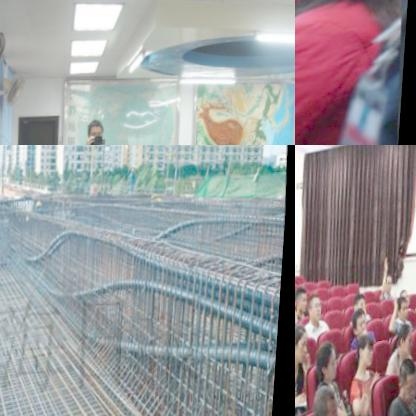head: (316, 339, 342, 386), (314, 384, 345, 416), (396, 319, 416, 359), (295, 321, 313, 364), (400, 357, 416, 402), (358, 335, 377, 367), (308, 292, 326, 323), (353, 307, 370, 336), (351, 289, 370, 313), (87, 119, 105, 144), (296, 284, 310, 314), (399, 293, 411, 319), (384, 271, 395, 293), (401, 286, 412, 307), (295, 283, 298, 306)
